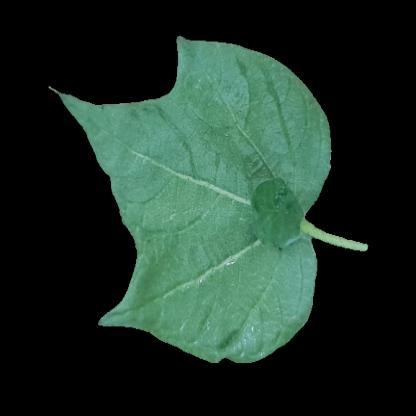curl_stage2: (128, 102, 218, 228)
healthy: (136, 231, 203, 329), (211, 283, 285, 355), (222, 53, 278, 138)
leaf_enation: (215, 148, 311, 277)
